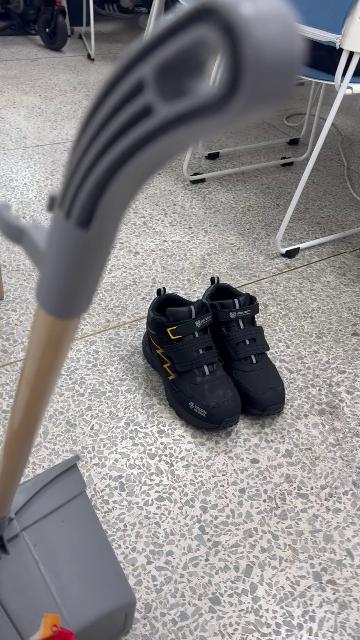shoe_worn: (144, 287, 245, 432), (197, 276, 286, 418)
